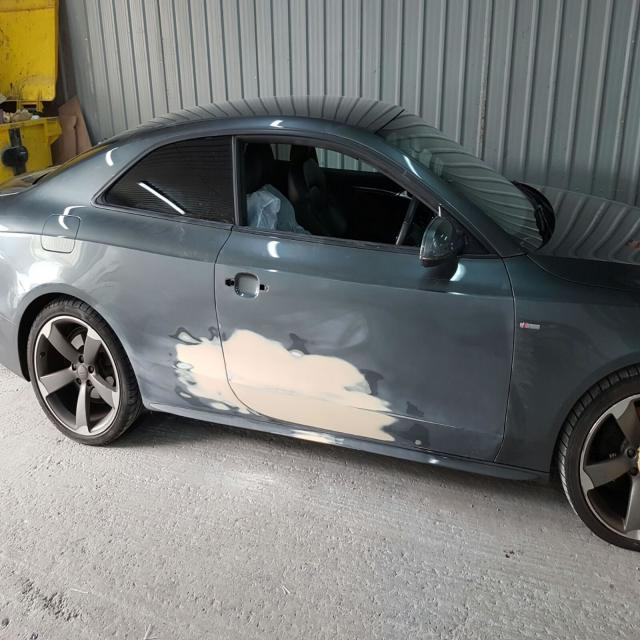scratch: (163, 318, 459, 454)
